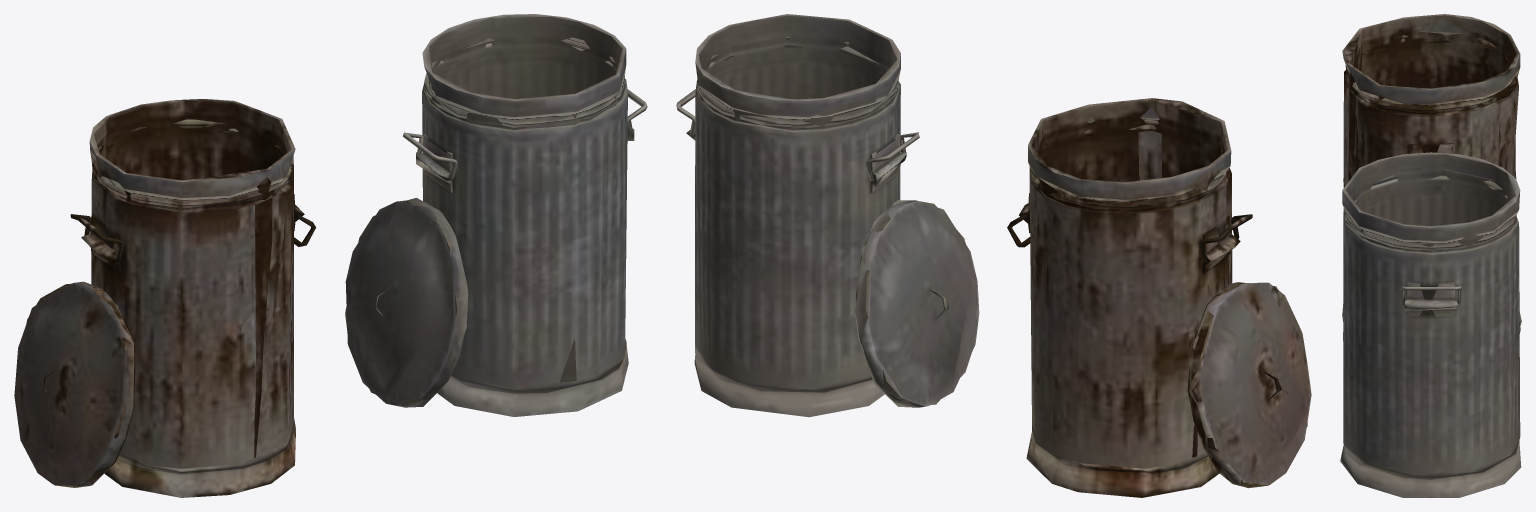
3 renders of one model, left to right at view 1: azimuth 30°, elevation 25°; view 2: azimuth 150°, elevation 25°; view 3: azimuth 270°, elevation 25°, orthographic. The views are drawn at different scales.
Parts seen in each view (by area): view 1: metal_trash_can, metal_trash_can_rust, metal_trash_can_lid, metal_trash_can_rust_lid; view 2: metal_trash_can, metal_trash_can_rust, metal_trash_can_lid, metal_trash_can_rust_lid; view 3: metal_trash_can, metal_trash_can_rust, metal_trash_can_handle_right.
Boxes of the visible parts, x1=… form: metal_trash_can: x1=416, y1=14, x2=634, y2=416; metal_trash_can_rust: x1=81, y1=99, x2=304, y2=497; metal_trash_can_lid: x1=345, y1=198, x2=468, y2=407; metal_trash_can_rust_lid: x1=14, y1=281, x2=135, y2=487; metal_trash_can: x1=686, y1=14, x2=906, y2=417; metal_trash_can_rust: x1=1019, y1=98, x2=1240, y2=497; metal_trash_can_lid: x1=854, y1=200, x2=979, y2=407; metal_trash_can_rust_lid: x1=1187, y1=282, x2=1311, y2=488; metal_trash_can: x1=1340, y1=152, x2=1521, y2=497; metal_trash_can_rust: x1=1342, y1=14, x2=1521, y2=325; metal_trash_can_handle_right: x1=1401, y1=286, x2=1461, y2=305.
Size of the model in its own units: 1.78 by 0.9062 by 0.5496.
Materials: 2 (2 with a texture image).
